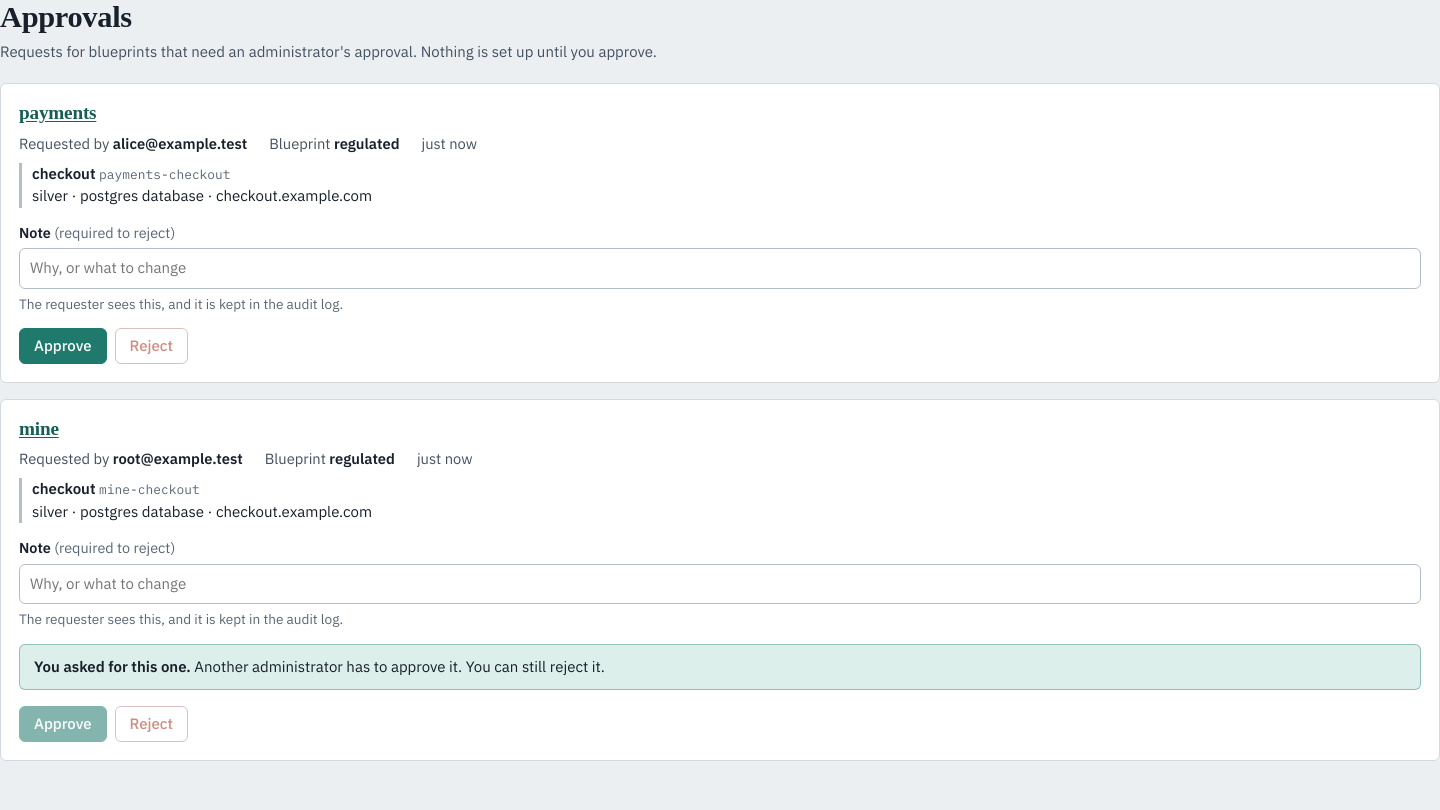
Test: Approvals queue › approves with the note and refreshes
Step 1. Type "checked" into the field labelled "Note (required to reject)" below "payments-checkout" → (720, 268), box [19,248,1421,289]
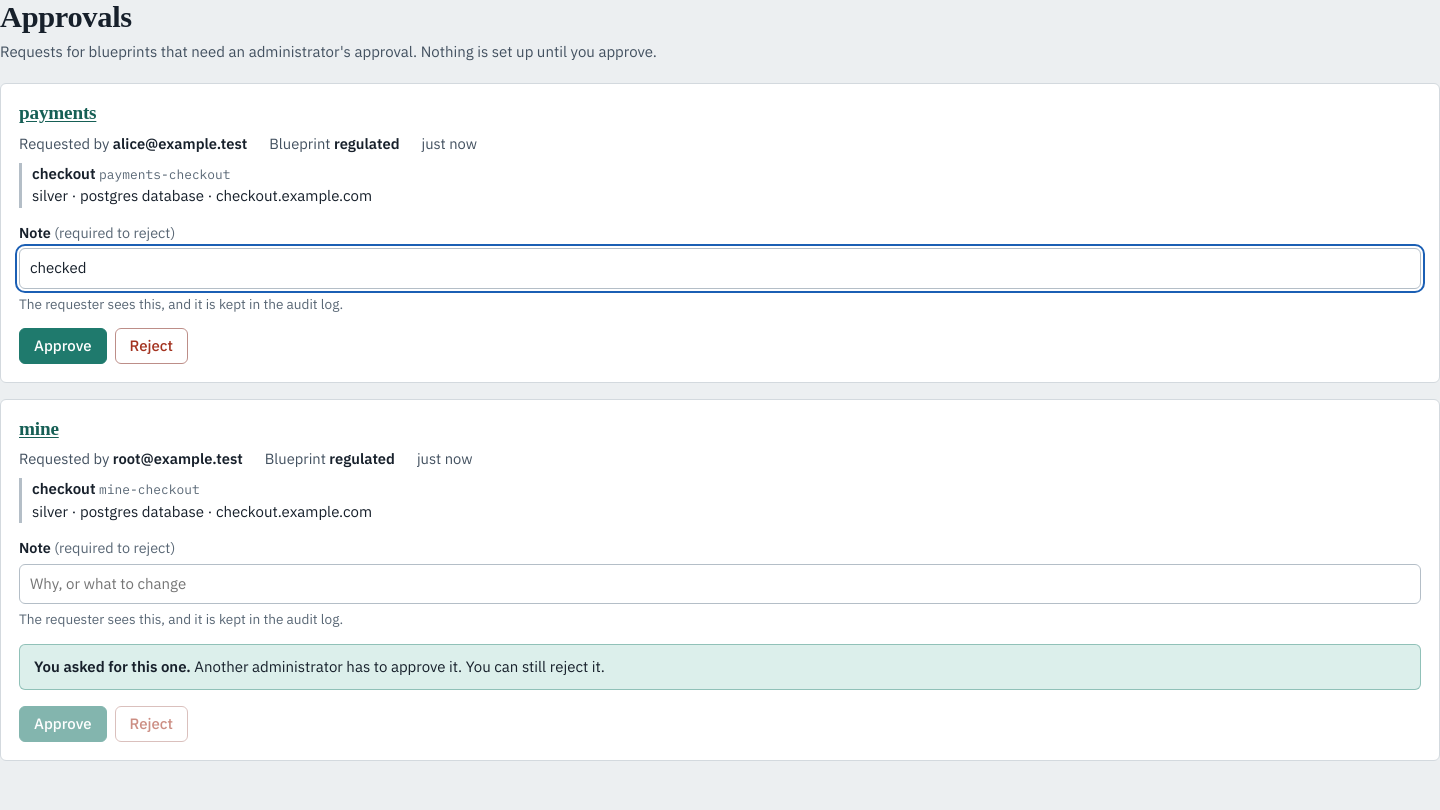
Step 2. Click the button "Approve" below "payments-checkout" → (63, 346), box [19,328,106,364]
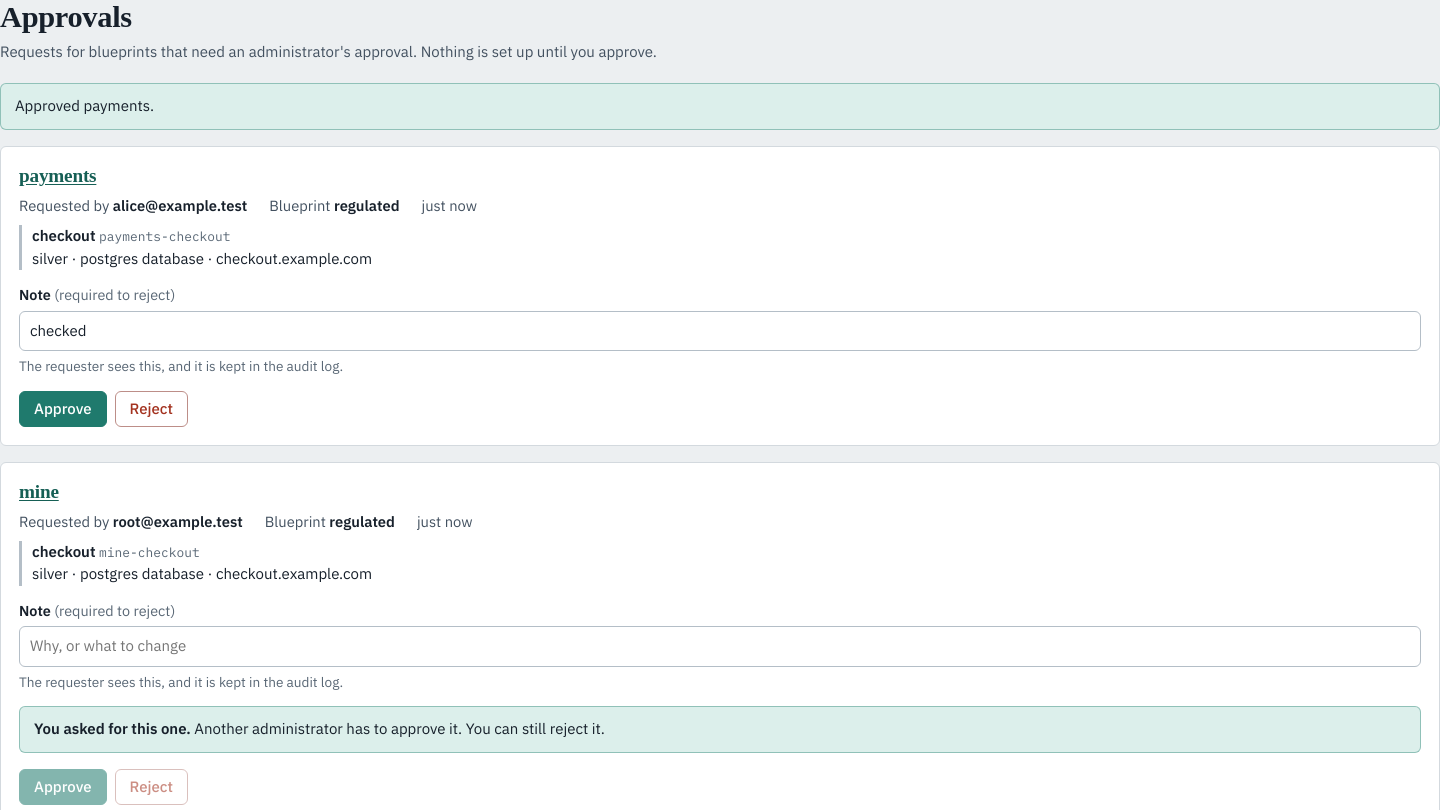
Check: the text "Approved payments." is shown, box [0,84,1439,130]
